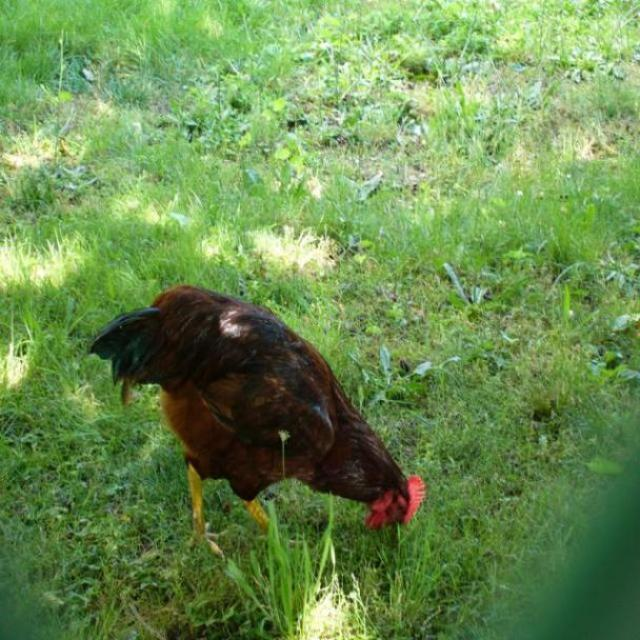Chicken: (85, 274, 434, 557)
